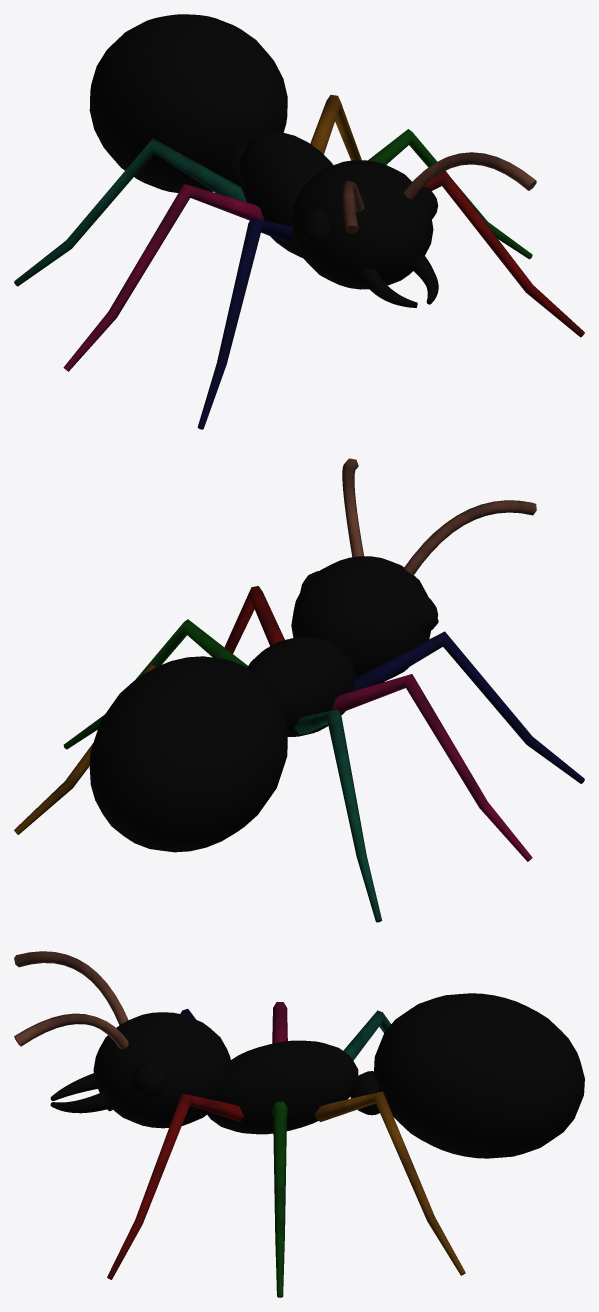
The model's file is ant.glb.
3 views of the same model, one above another, from view 1: azimuth 30°, elevation 25°; view 2: azimuth 150°, elevation 25°; view 3: azimuth 270°, elevation 25° (orthographic). The views are drawn at different scales.
Visible parts, largest first — view 1: ant; view 2: ant; view 3: ant.
Boxes of the visible parts, <box> form: ant: <box>14,14,584,429</box>; ant: <box>14,458,584,922</box>; ant: <box>14,951,584,1297</box>.
Bounding box in the file's own units: 1.56 × 0.7327 × 1.8.
1 material, 1 textured.
